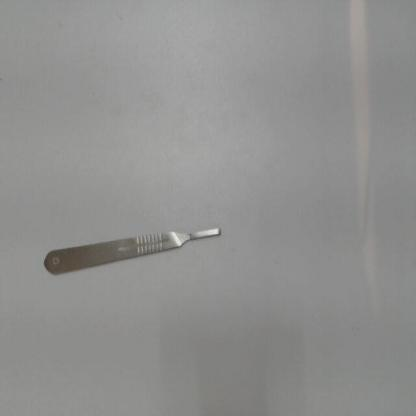No.4 BP Handle: (34, 206, 227, 285)
